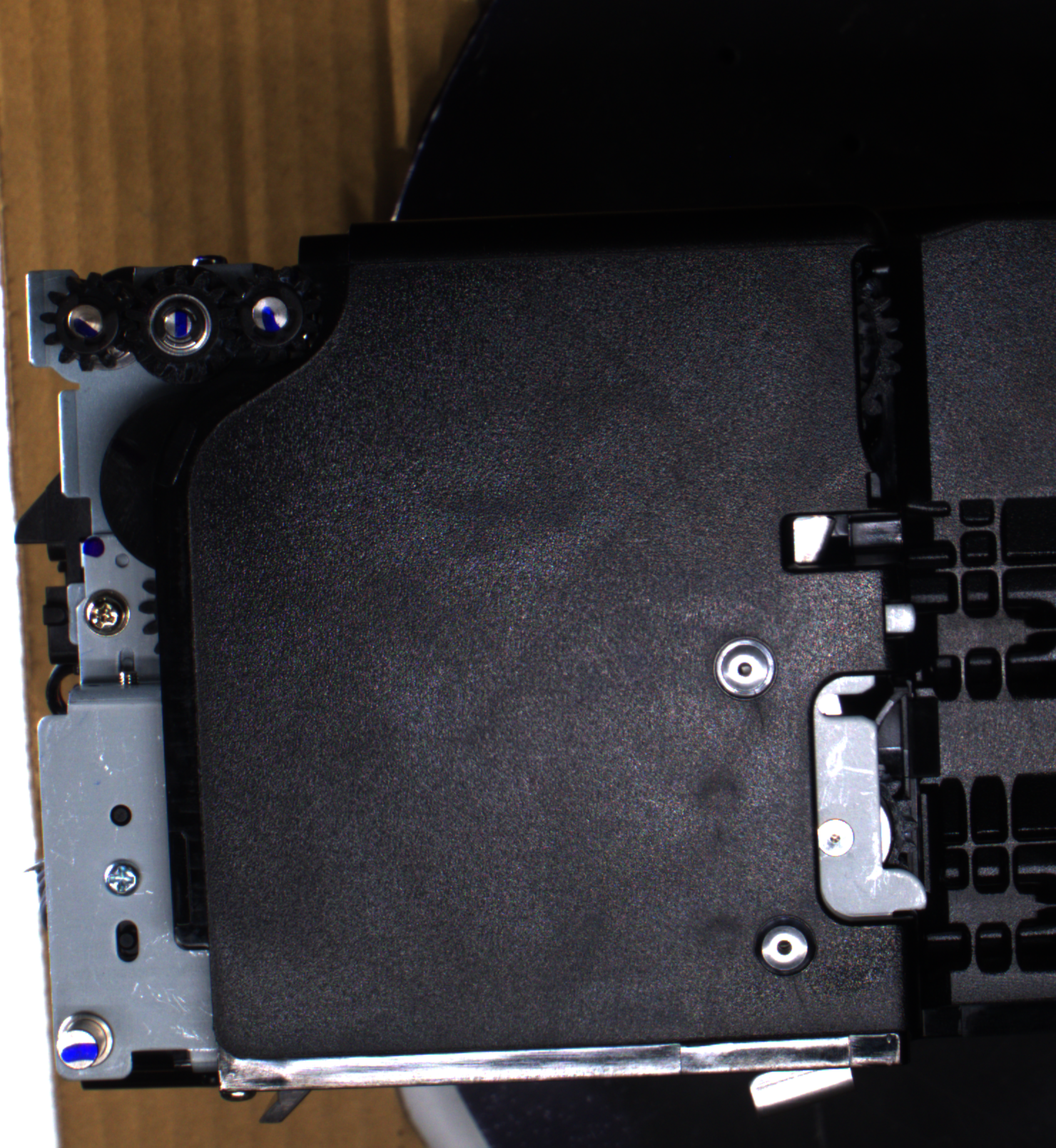centre_pin_presence: (743, 1047, 859, 1115)
centre_plate_presence: (806, 666, 938, 932)
centre_screw_presence: (709, 629, 782, 706), (748, 908, 820, 983)
gear1_presence: (38, 270, 138, 373)
gear2_presence: (124, 265, 236, 384)
gear3_presence: (219, 262, 322, 368)
side_screw_presence: (80, 586, 131, 638), (98, 856, 143, 898)
slanting_pin_presence: (52, 1007, 122, 1077)
